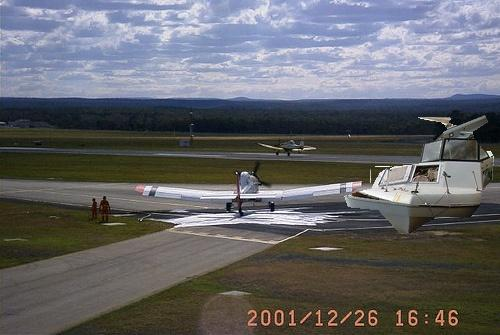tampered: (345, 116, 494, 233)
